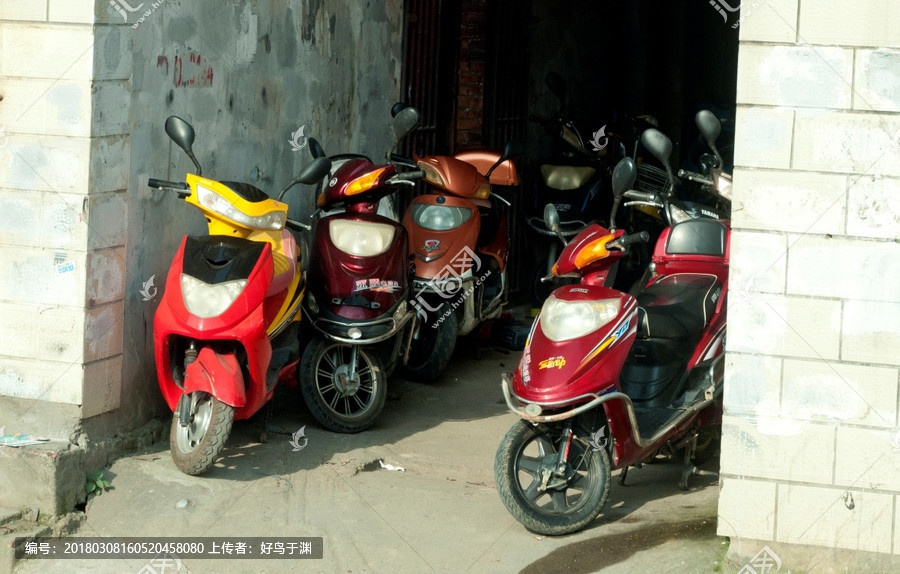non-vehicle: (498, 217, 731, 530), (149, 153, 302, 471), (304, 158, 411, 431), (408, 146, 522, 377)
